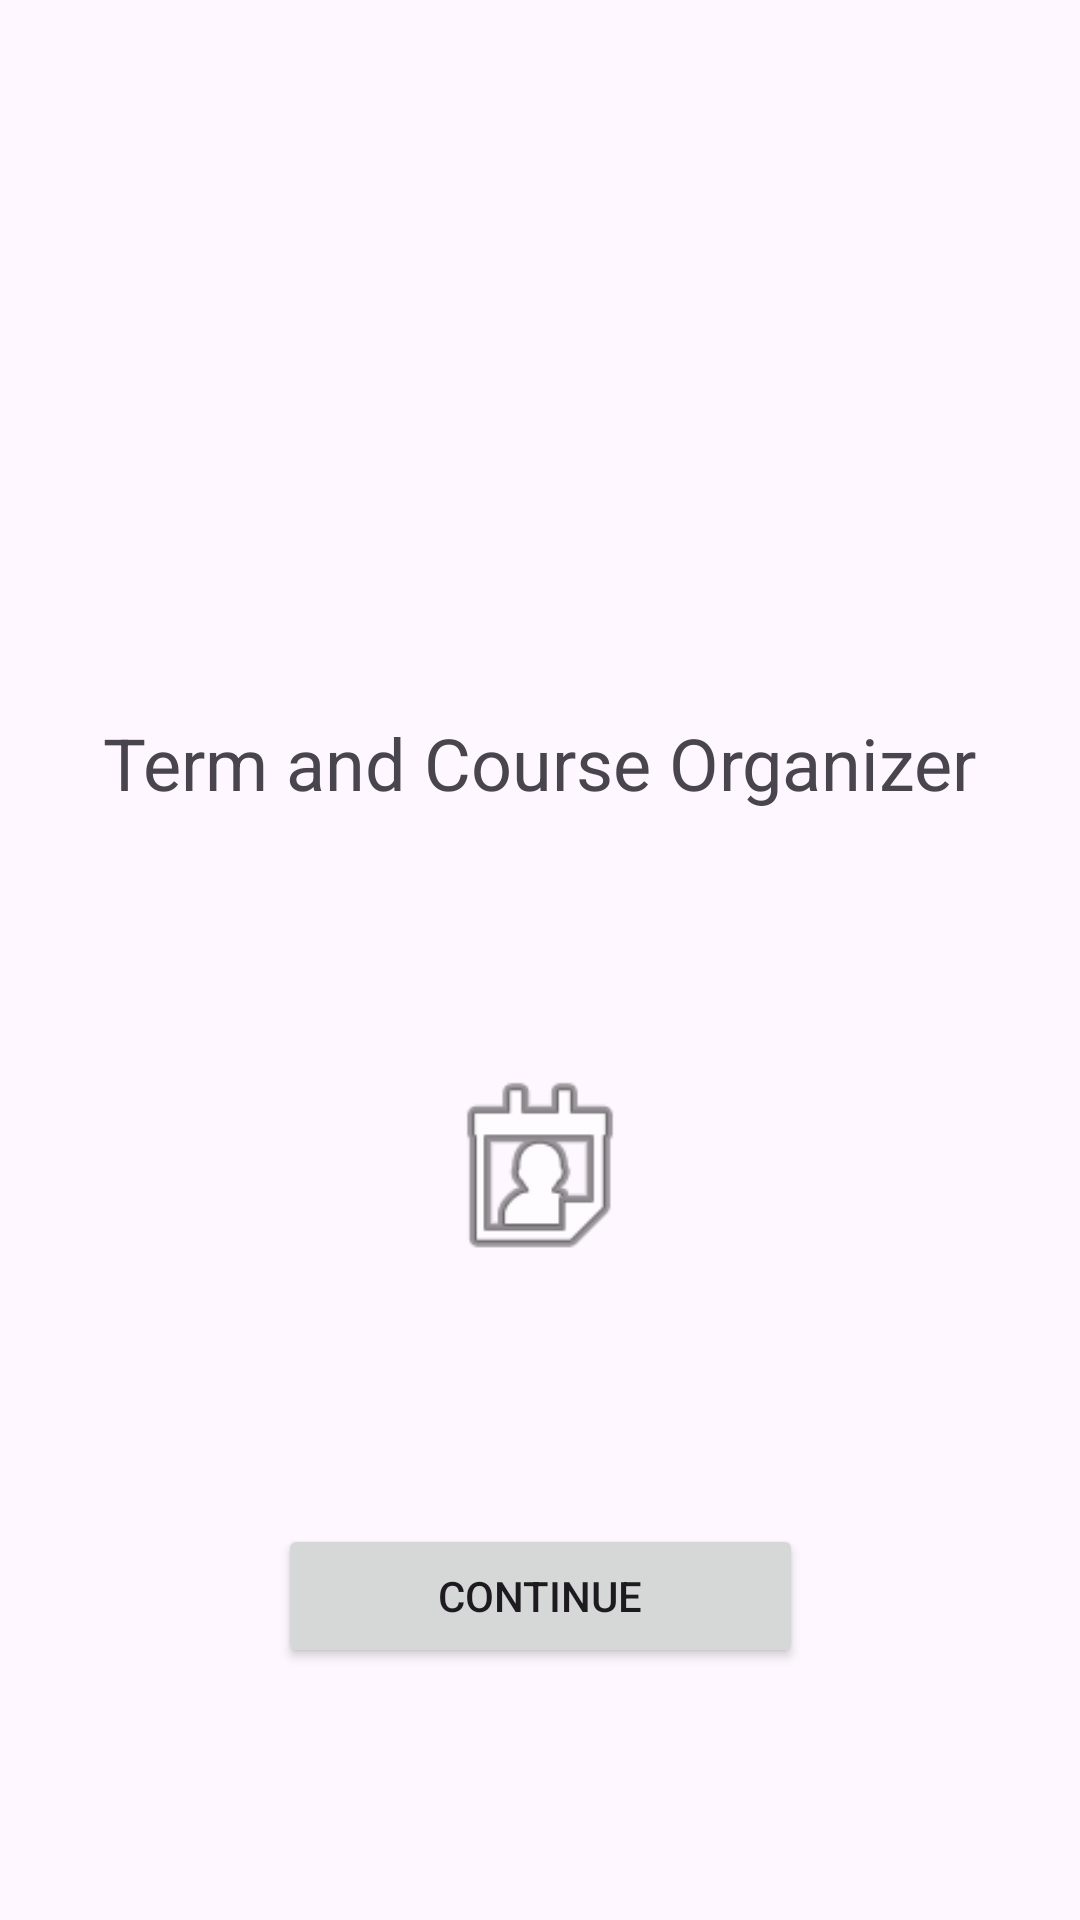

Point at icon controls on the screen. Image size 1080 x 1920, points as point (x, y).
calendar: point (540, 1165)
